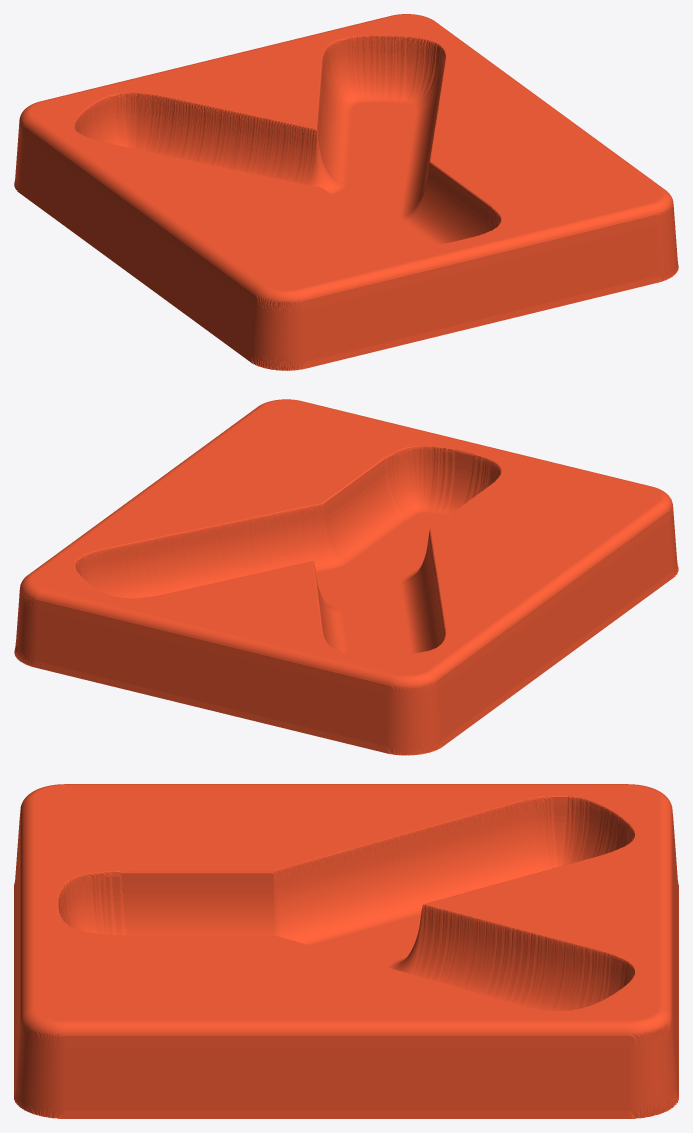
File: mold.glb
3 views of the same model, one above another, from view 1: azimuth 30°, elevation 25°; view 2: azimuth 150°, elevation 25°; view 3: azimuth 270°, elevation 25° (orthographic). The views are drawn at different scales.
Visible parts, largest first — view 1: geometry_0; view 2: geometry_0; view 3: geometry_0.
Boxes of the visible parts, bbox=[...] form: geometry_0: bbox=[14, 14, 678, 370]; geometry_0: bbox=[14, 399, 678, 755]; geometry_0: bbox=[14, 784, 678, 1118].
Size of the model in its own units: 0.1058 by 0.0175 by 0.1178.
